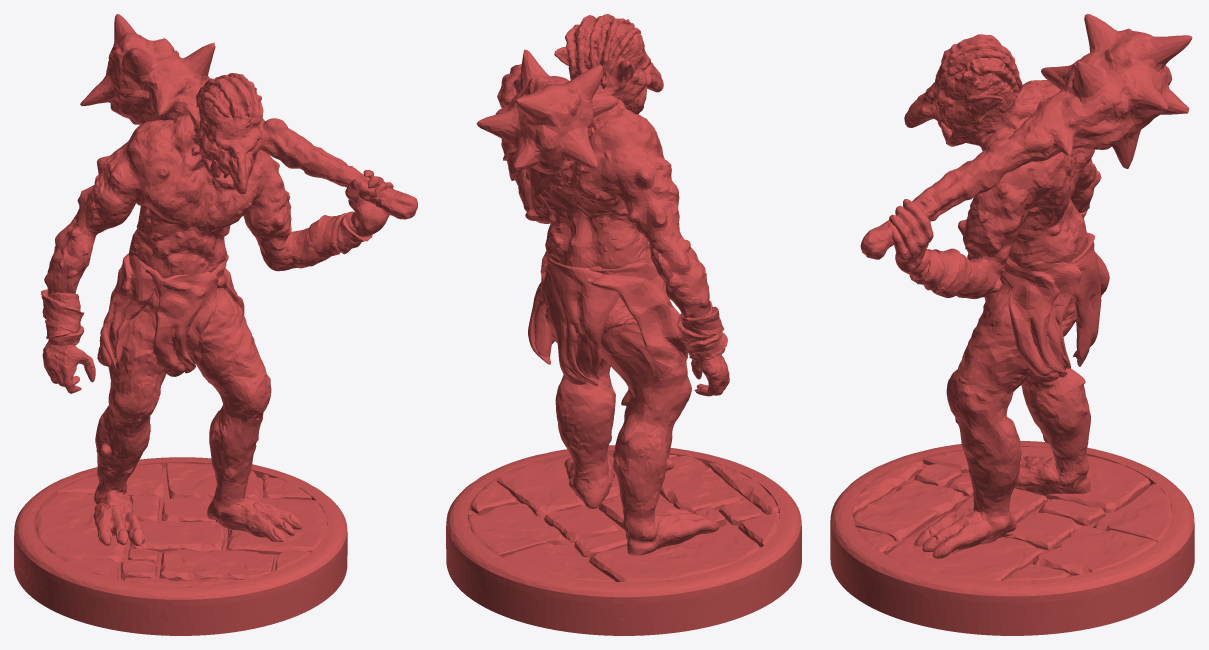
Rendered from troll.glb.
The picture shows the model from 3 angles, left to right: view 1: azimuth 30°, elevation 25°; view 2: azimuth 150°, elevation 25°; view 3: azimuth 270°, elevation 25°; orthographic projection. The views are drawn at different scales.
Visible parts, largest first — view 1: troll; view 2: troll; view 3: troll.
Part boxes in pixels (left/top/right/bottom): troll: left=14, top=14, right=417, bottom=635; troll: left=446, top=14, right=801, bottom=635; troll: left=830, top=14, right=1194, bottom=635.
Bounding box in the file's own units: 33.59 × 50 × 30.68.
